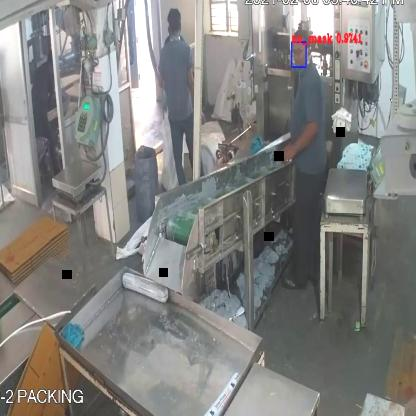no_glove: (273, 118, 318, 165)
